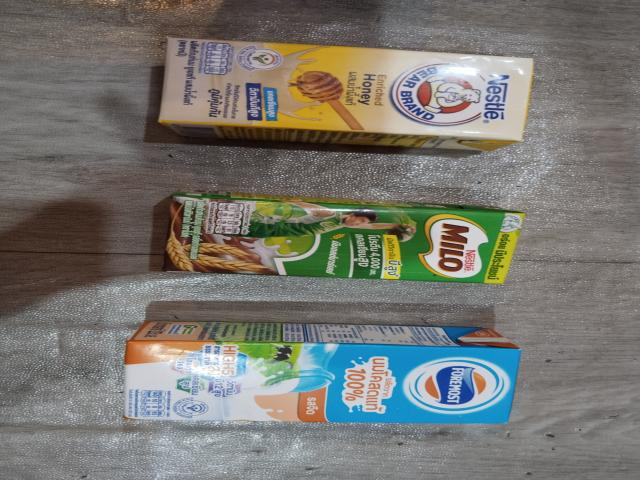drink_box: (109, 318, 530, 438), (157, 31, 549, 155), (132, 189, 530, 287)
